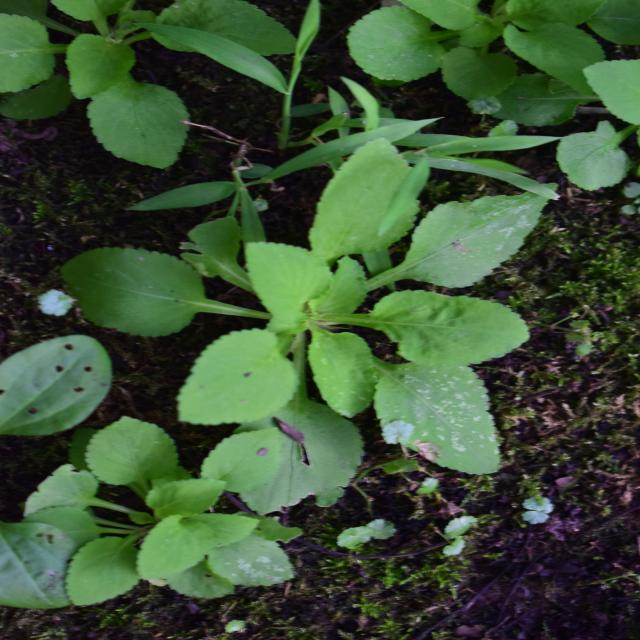Viola: (178, 104, 471, 476), (442, 343, 608, 570)
